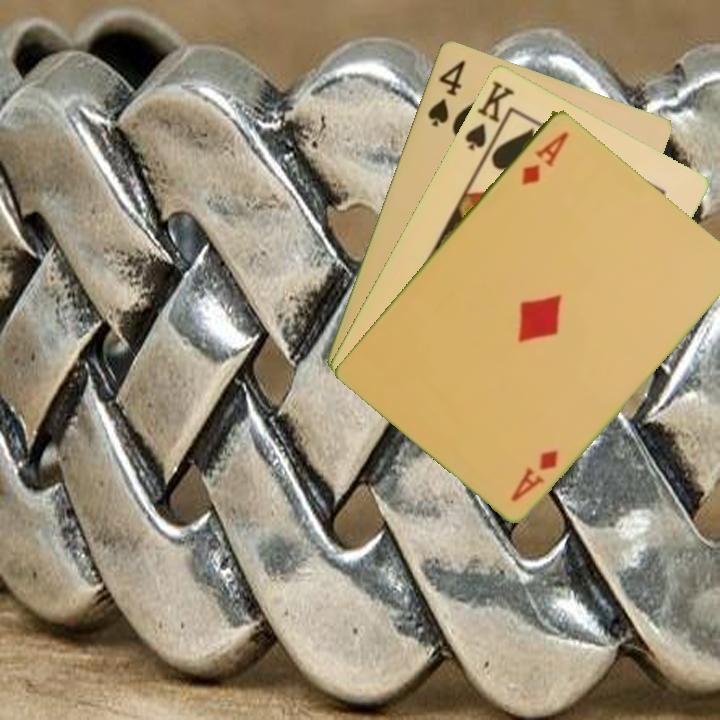4s: (424, 55, 468, 129)
Ad: (518, 127, 572, 188), (507, 445, 561, 504)
Ks: (461, 76, 518, 153)
